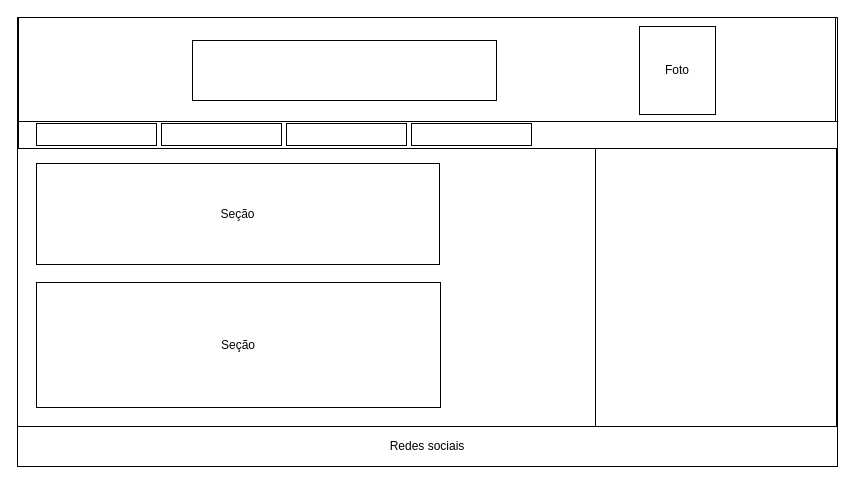
Some shapes in this 855 by 484 pixel diagram are drawn without their labels. The box of each missing label's shape, as (x1, y1, x2, y2) in pixels:
Detalhamento de seção: (594, 148, 836, 466)
Texto: (192, 40, 496, 100)
